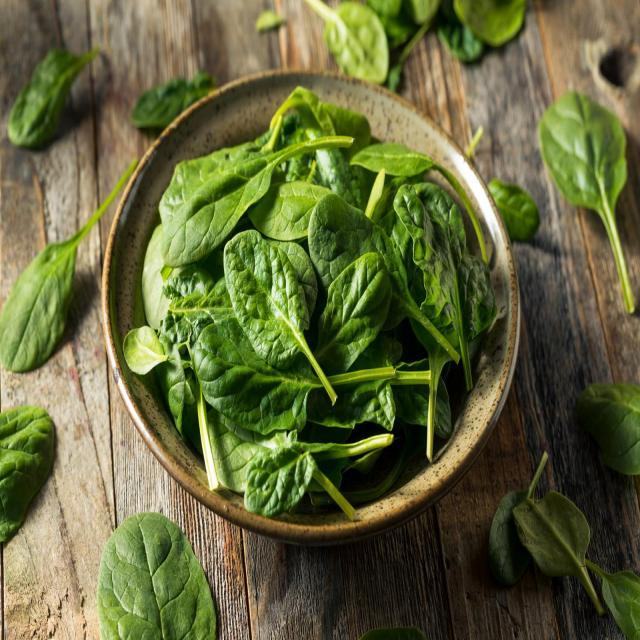Spinach: (126, 82, 514, 547)
